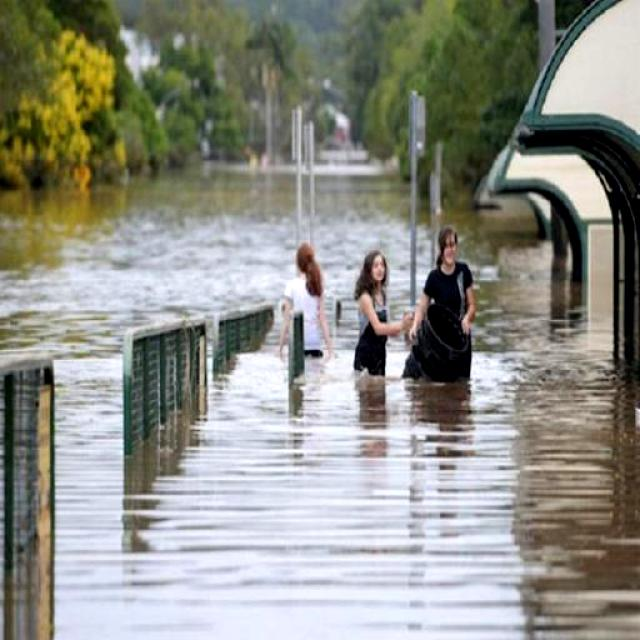civilian: (412, 221, 478, 390), (354, 247, 411, 383), (282, 236, 332, 365)
